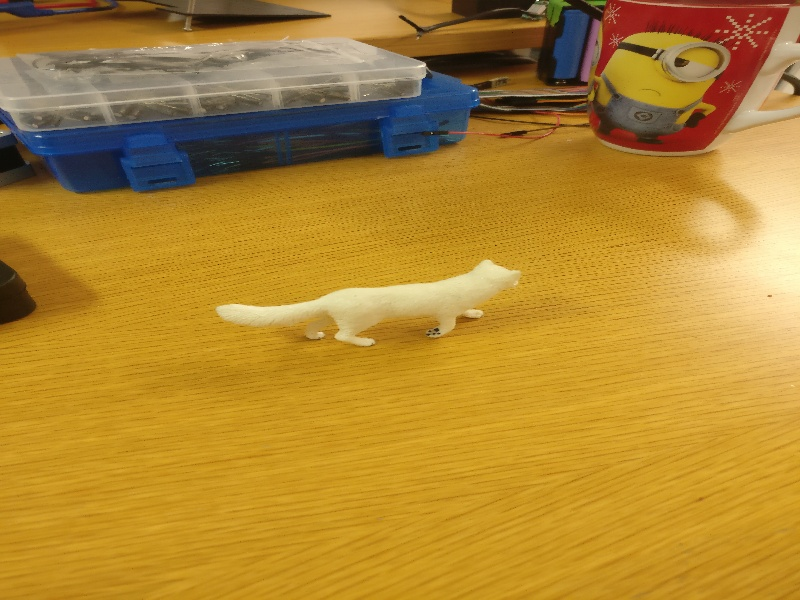toy: (208, 253, 528, 352)
